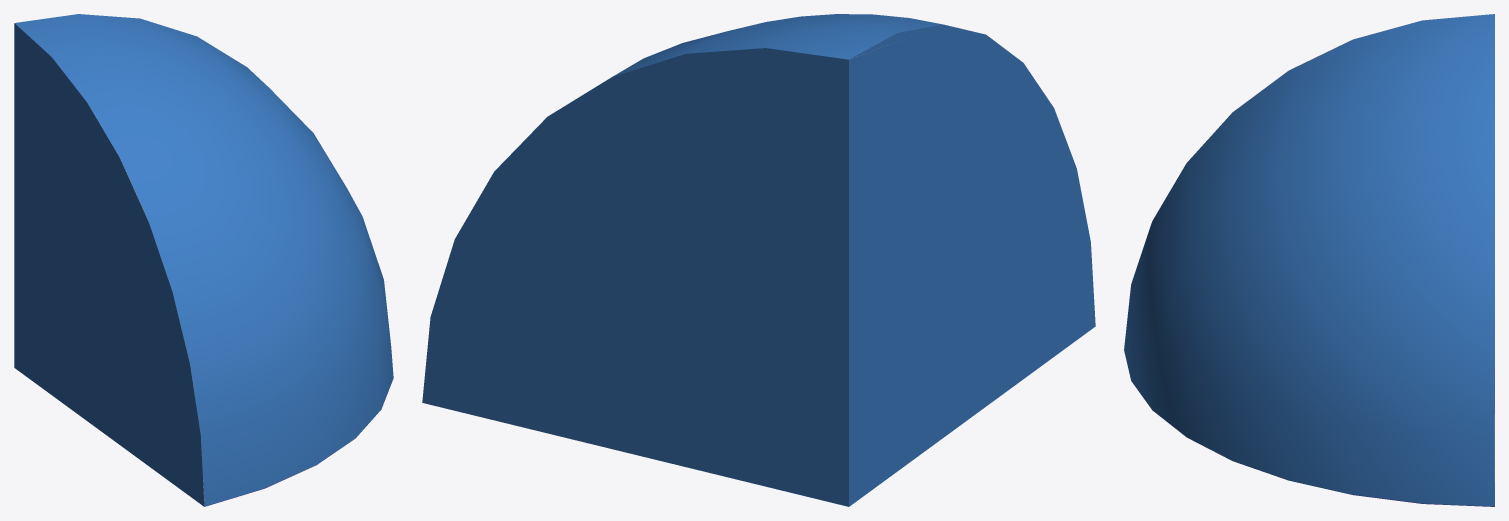
Rendered from r4c1_body_blue.gltf.
The picture shows the model from 3 angles, left to right: view 1: azimuth 30°, elevation 25°; view 2: azimuth 150°, elevation 25°; view 3: azimuth 270°, elevation 25°; orthographic projection. The views are drawn at different scales.
Parts seen in each view (by area): view 1: r4c1_body_blue; view 2: r4c1_body_blue; view 3: r4c1_body_blue.
Boxes of the visible parts, x1,y1,x2,y2 form: r4c1_body_blue: (14, 14, 393, 506); r4c1_body_blue: (422, 14, 1095, 506); r4c1_body_blue: (1124, 14, 1494, 506).
Size of what is drawn, in the model's own units: 2 by 2 by 2.
1 material, 1 textured.
